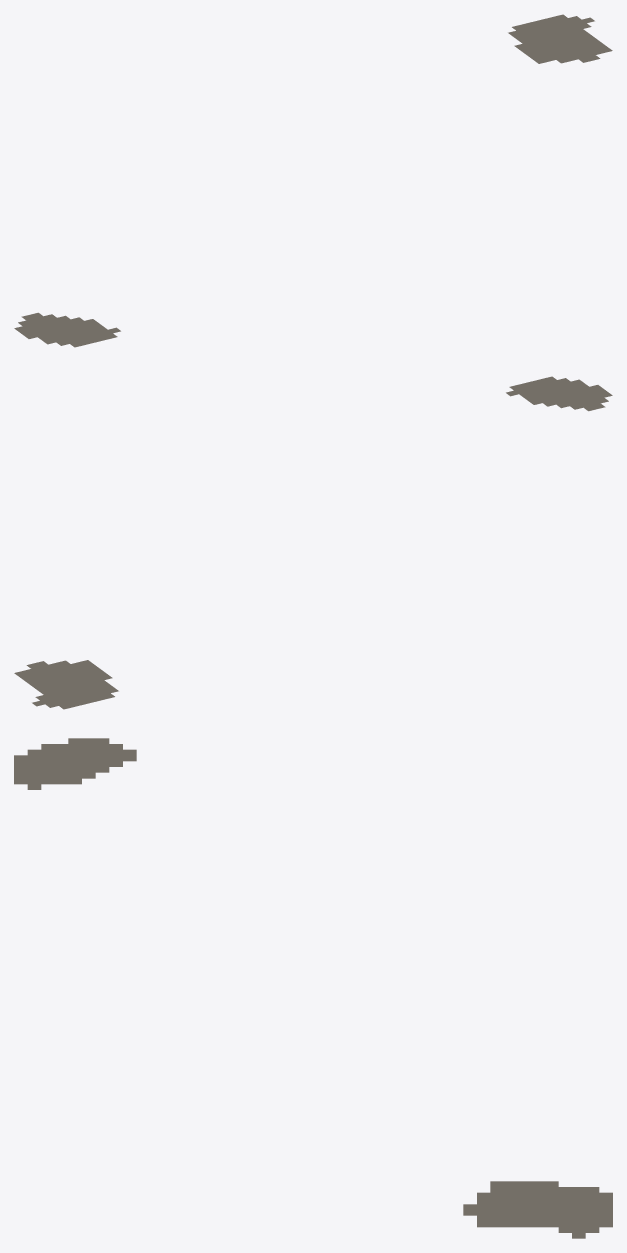
The model's file is Isl-atoll6-RocksArea.fbx.
The picture shows the model from 3 angles, top to bottom: view 1: azimuth 30°, elevation 25°; view 2: azimuth 210°, elevation 25°; view 3: azimuth 270°, elevation 25°; orthographic projection. The views are drawn at different scales.
Parts seen in each view (by area): view 1: Isl-atoll6-RocksArea; view 2: Isl-atoll6-RocksArea; view 3: Isl-atoll6-RocksArea.
Boxes of the visible parts, bbox=[...] form: Isl-atoll6-RocksArea: bbox=[14, 14, 612, 347]; Isl-atoll6-RocksArea: bbox=[14, 376, 612, 709]; Isl-atoll6-RocksArea: bbox=[14, 738, 612, 1238].
Size of the model in its own units: 87 by 0 by 44.
